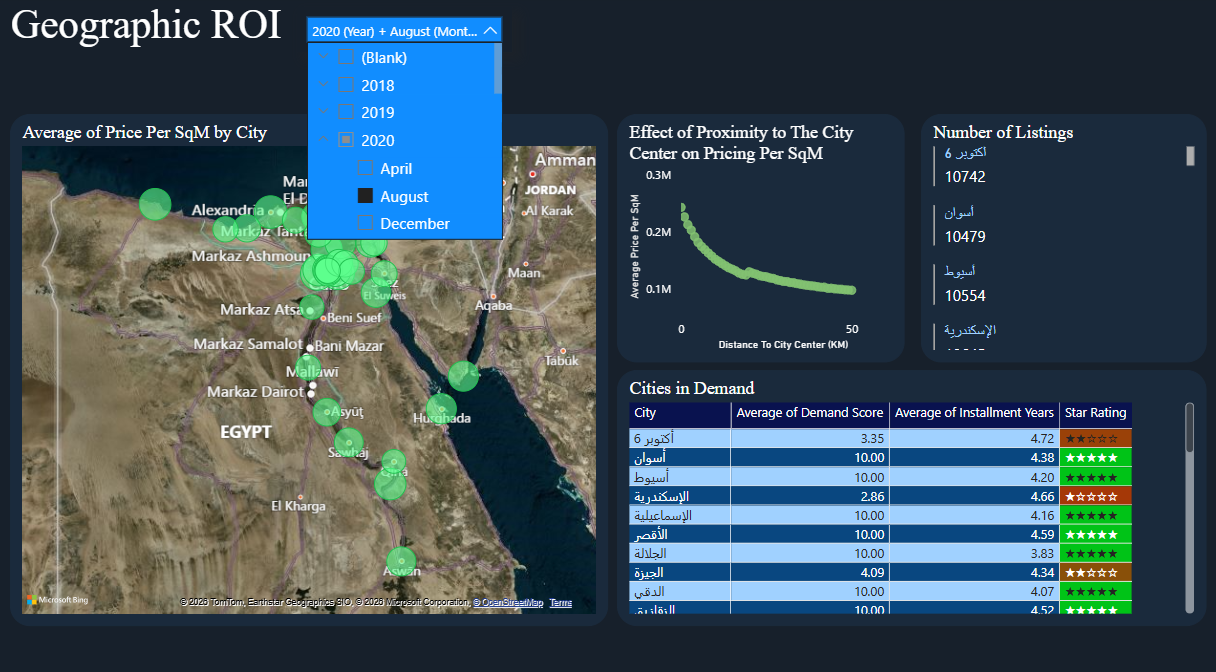

The page's visual inventory and layout, read from the dashboard file:
{"tool":"powerbi","page":{"name":"Geographic ROI","canvas":[1280,720],"ordinal":0},"visuals":[{"type":"textbox","box":[9.7,0,359.9,68.1],"z":0},{"type":"slicer","fields":{"Values":["real_estate_gold_dim_date.Year","real_estate_gold_dim_date.Month_Name"]},"box":[314.2,11,224.7,46.7],"z":1000},{"type":"map","title":"Average of Price Per SqM by City","fields":{"Category":["real_estate_gold_dim_location.City"],"Size":["Avg(real_estate_gold_fact_sales.Price_Per_SqM)"]},"box":[13.6,123.5,626.4,535.9],"z":2000},{"type":"scatterChart","title":"Effect of Proximity to The City Center on Pricing Per SqM","fields":{"X":["real_estate_gold_dim_property.Distance_To_City_Center_KM"],"Y":["Avg(real_estate_gold_fact_sales.Price_Per_SqM)"]},"box":[649.4,123.6,301.3,259.7],"z":3000},{"type":"pivotTable","title":"Cities in Demand","fields":{"Rows":["real_estate_gold_dim_location.City"],"Values":["Avg(real_estate_gold_fact_sales.Demand_Score)","Avg(real_estate_gold_fact_sales.Installment_Years)","real_estate_gold_fact_sales.Average of Demand_Score star rating"]},"box":[649.4,391.7,617.1,268.1],"z":4000},{"type":"multiRowCard","title":"Number of Listings","fields":{"Values":["real_estate_gold_dim_location.City","Count(real_estate_gold_fact_sales.Sale_Key)"]},"box":[967.3,123.6,299.2,259.7],"z":5000}]}

Visuals, with their boxes in screenshot pixels (x1, y1, x2, y2), scaled from the page's 1280x720 canvas onto the 1216x672 screenshot:
textbox: rect(9, 0, 351, 64)
slicer - real_estate_gold_dim_date.Year x real_estate_gold_dim_date.Month_Name: rect(298, 10, 512, 54)
"Average of Price Per SqM by City" map: rect(13, 115, 608, 615)
"Effect of Proximity to The City Center on Pricing Per SqM" scatterChart: rect(617, 115, 903, 358)
"Cities in Demand" pivotTable: rect(617, 366, 1203, 616)
"Number of Listings" multiRowCard: rect(919, 115, 1203, 358)
